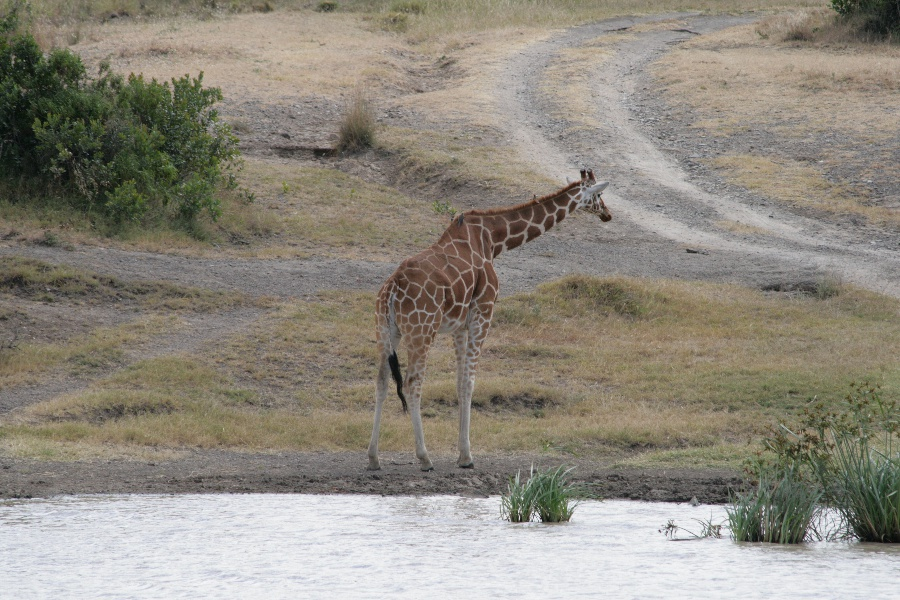giraffe: (357, 157, 616, 477)
